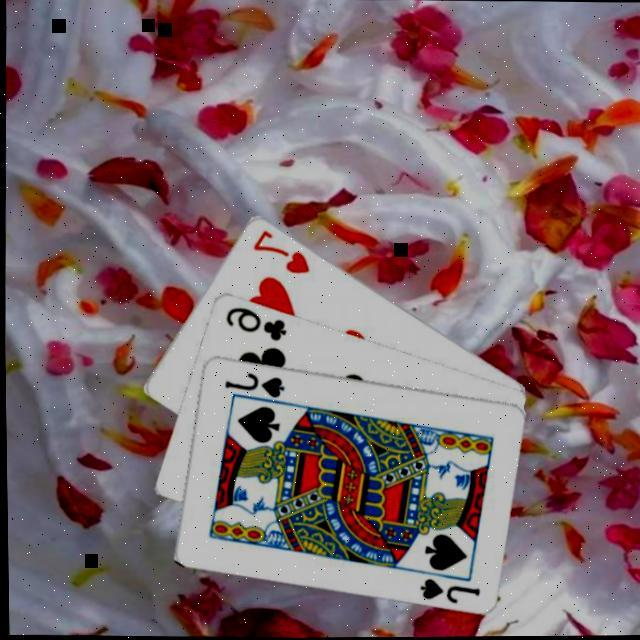6C: (222, 303, 289, 344)
7H: (249, 227, 315, 278)
JS: (221, 369, 287, 401), (415, 575, 482, 606)
